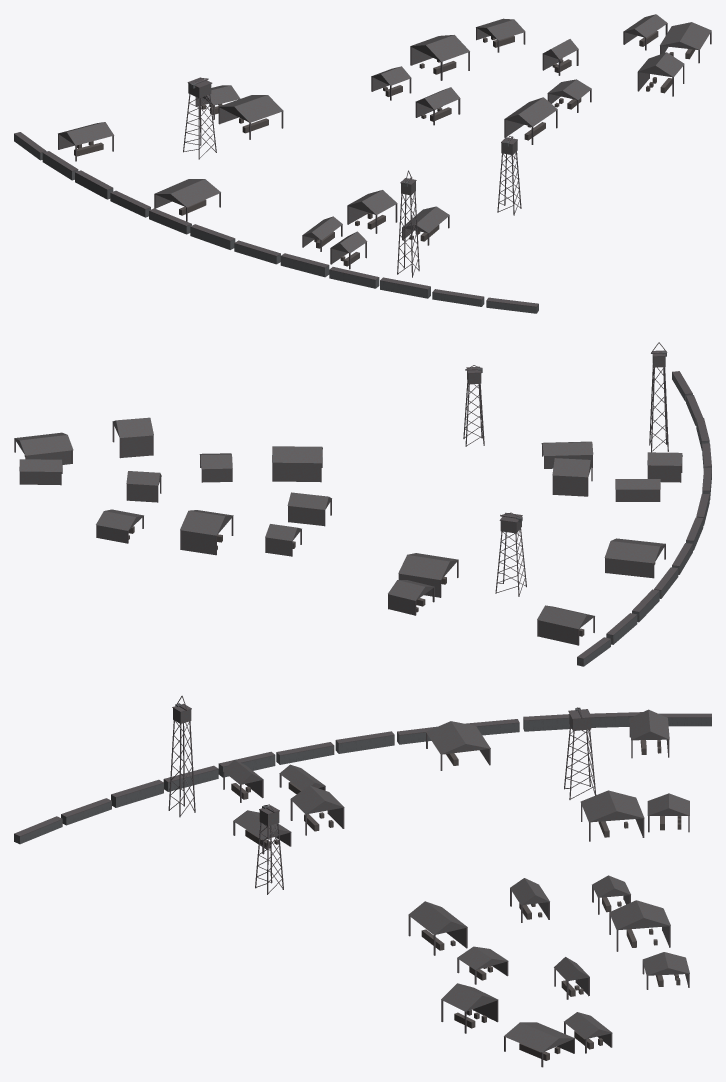
Rendered from SM_City_MarsaAlFajr_4.fbx.
3 views of the same model, one above another, from view 1: azimuth 30°, elevation 25°; view 2: azimuth 150°, elevation 25°; view 3: azimuth 270°, elevation 25° (orthographic). The views are drawn at different scales.
Parts seen in each view (by area): view 1: SM_City_MarsaAlFajr_4; view 2: SM_City_MarsaAlFajr_4; view 3: SM_City_MarsaAlFajr_4.
Part boxes in pixels (x1=…): SM_City_MarsaAlFajr_4: x1=14, y1=14, x2=711, y2=313; SM_City_MarsaAlFajr_4: x1=14, y1=342, x2=711, y2=666; SM_City_MarsaAlFajr_4: x1=14, y1=695, x2=711, y2=1067.
Size of the model in its own units: 11366 by 1784 by 9715.
Materials: 4 (4 with a texture image).
